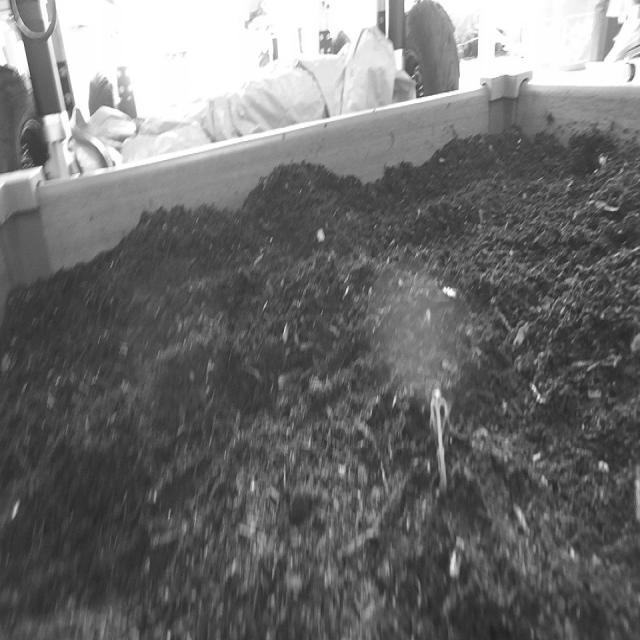Unhealthy: (417, 366, 465, 515)
